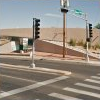crosswalk: (47, 72, 100, 100)
